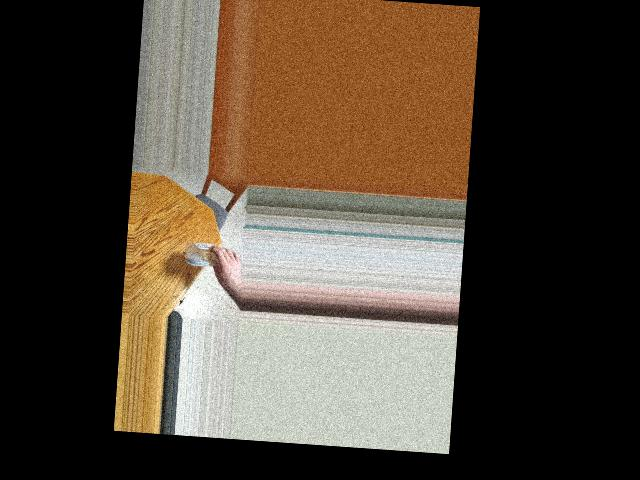cheese: (186, 234, 234, 276)
